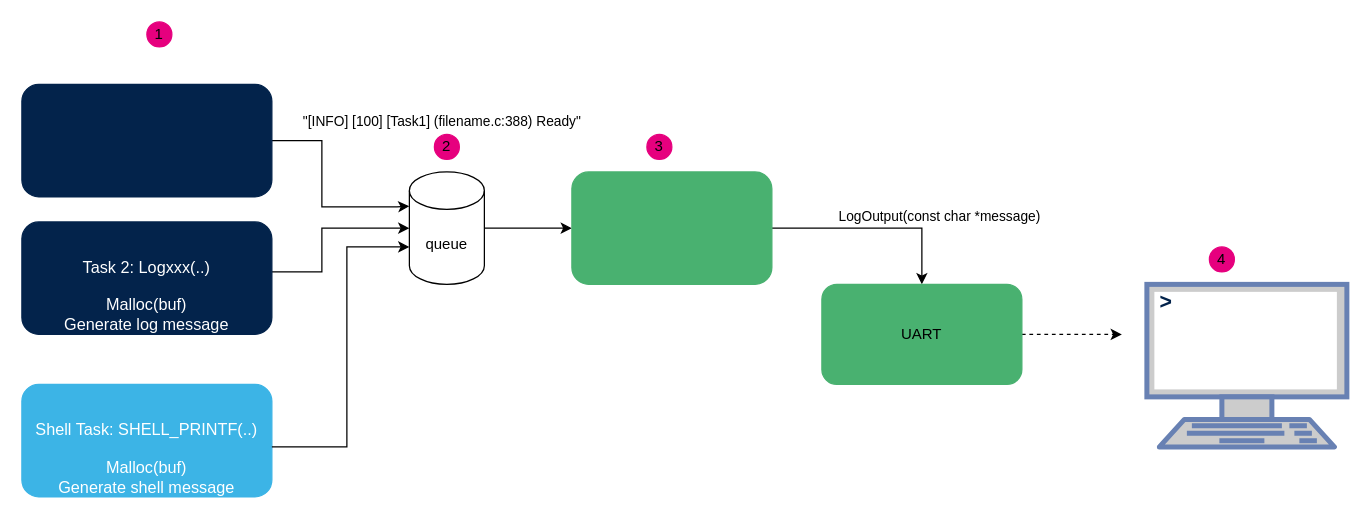
Image size: 1370x519. Some labels were removed from this diagram. The shapes that lost their labels are listed below. From the top down, each one's box as (x1, y1, x2, y2) in pixels, then its label:
(21, 83, 272, 197): Task 1: Logxxx(..) Malloc( buf ) Generate log message
(571, 171, 772, 284): Outptut Task Free(buf)
